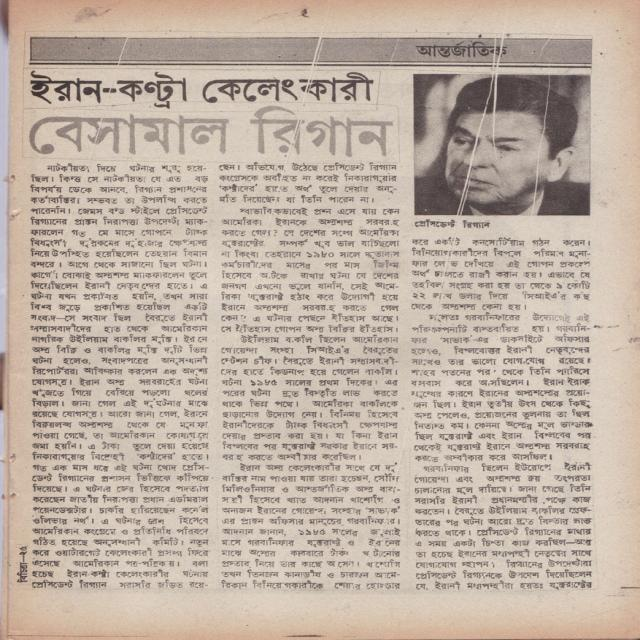caption: (414, 218, 491, 229)
image: (414, 73, 591, 215)
page number: (16, 544, 29, 557)
paragraph: (29, 163, 210, 590), (410, 311, 592, 463), (410, 461, 595, 593), (220, 461, 404, 592), (218, 206, 403, 335), (220, 334, 401, 462), (408, 237, 594, 311), (216, 160, 402, 205)
text: (14, 562, 30, 585)
title: (28, 106, 398, 160), (29, 70, 377, 108), (416, 41, 505, 56)
